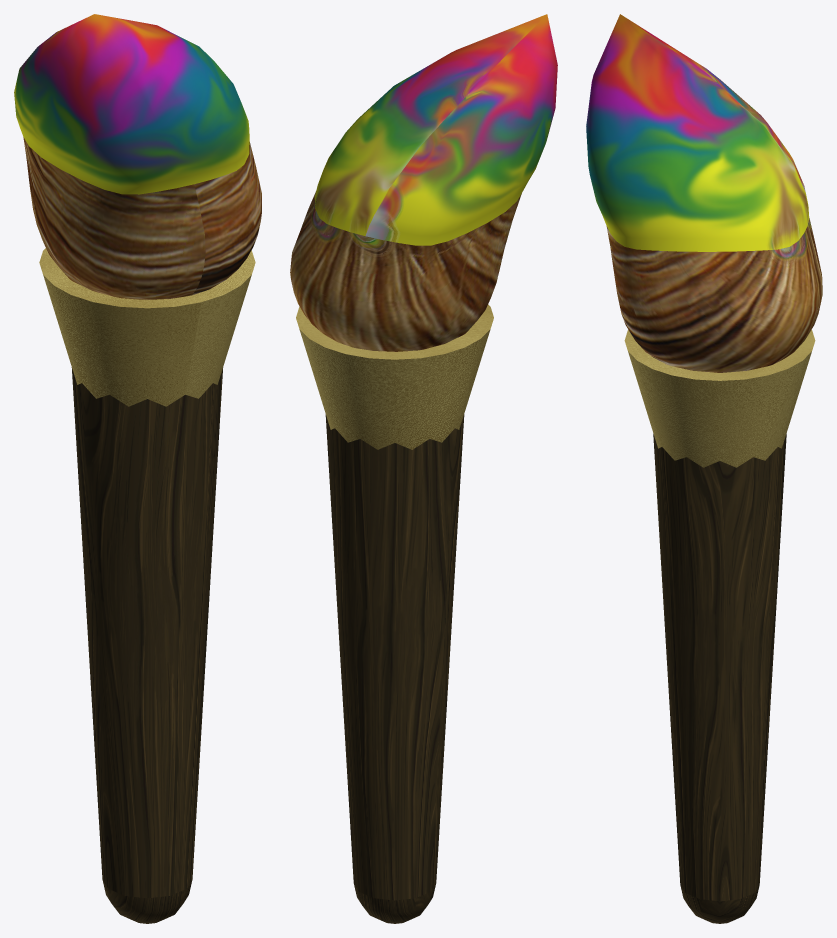
The model's file is pinzell.FBX.
The picture shows the model from 3 angles, left to right: view 1: azimuth 30°, elevation 25°; view 2: azimuth 150°, elevation 25°; view 3: azimuth 270°, elevation 25°; orthographic projection. The views are drawn at different scales.
Parts seen in each view (by area): view 1: OilTank001; view 2: OilTank001; view 3: OilTank001.
Boxes of the visible parts, box(x1,y1,x2,y2) form: OilTank001: box(14, 14, 261, 923); OilTank001: box(290, 14, 557, 923); OilTank001: box(586, 14, 822, 923).
Bounding box in the file's own units: 7.22 × 29.45 × 7.35.
Materials: 3 (3 with a texture image).
